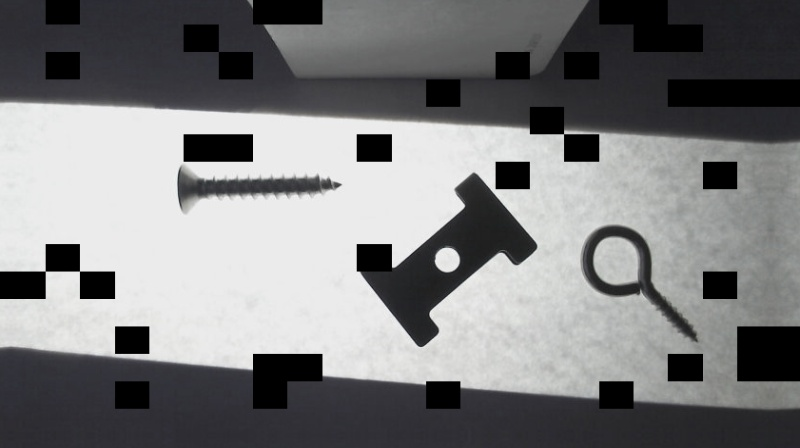O001: (579, 224, 698, 344)
O002: (359, 171, 539, 348)
S001: (175, 158, 345, 214)
